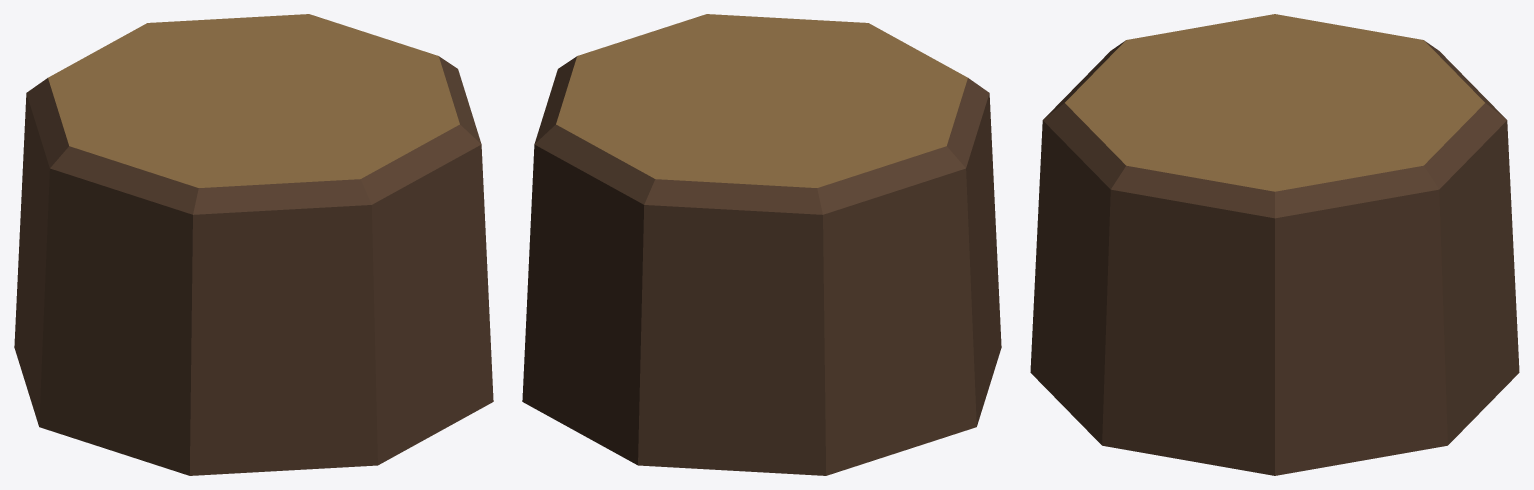
Rendered from PineStump.glb.
3 views of the same model, side by side, from view 1: azimuth 30°, elevation 25°; view 2: azimuth 150°, elevation 25°; view 3: azimuth 270°, elevation 25° (orthographic).
Parts seen in each view (by area): view 1: PineStump; view 2: PineStump; view 3: PineStump.
Part boxes in pixels (left/top/right/bottom): PineStump: left=14, top=14, right=493, bottom=475; PineStump: left=522, top=14, right=1001, bottom=475; PineStump: left=1030, top=14, right=1519, bottom=475.
Bounding box in the file's own units: 0.46 × 0.28 × 0.46.
